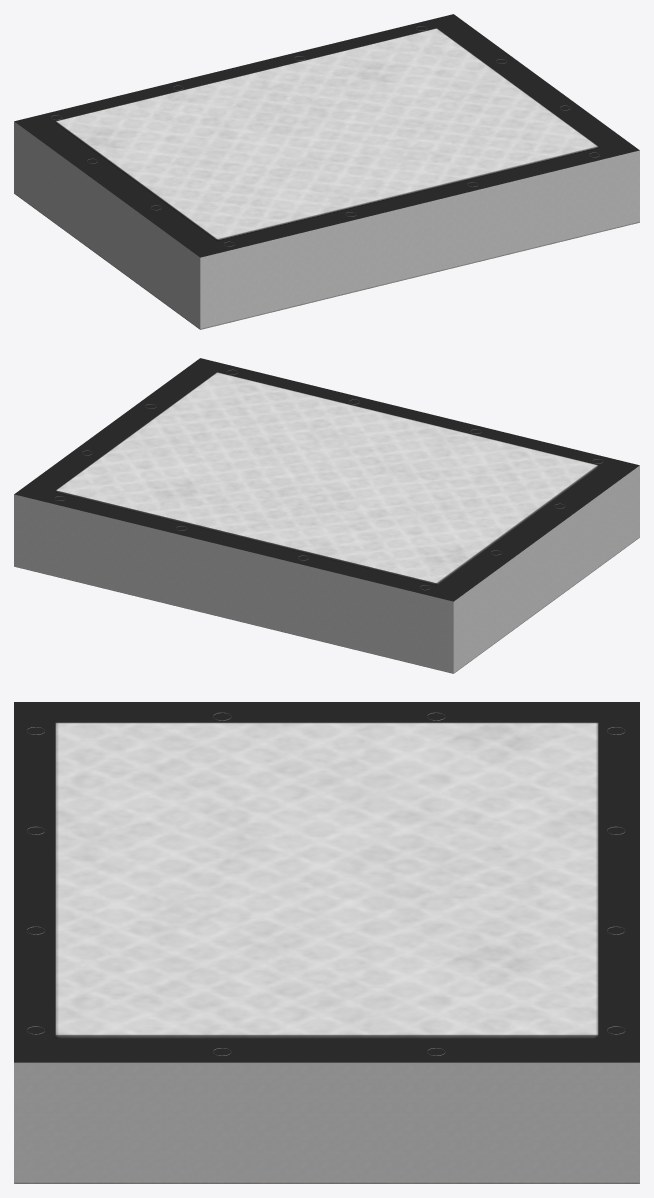
File: museumEmpty.glb
3 renders of one model, top to bottom at view 1: azimuth 30°, elevation 25°; view 2: azimuth 150°, elevation 25°; view 3: azimuth 270°, elevation 25°, orthographic. The views are drawn at different scales.
Visible parts, largest first — view 1: Art_Room; view 2: Art_Room; view 3: Art_Room.
Part boxes in pixels (left/top/right/bottom): Art_Room: left=14, top=14, right=639, bottom=329; Art_Room: left=14, top=358, right=639, bottom=673; Art_Room: left=14, top=702, right=639, bottom=1183.
Bounding box in the file's own units: 27.63 × 4.46 × 20.27.
1 material, 1 textured.
